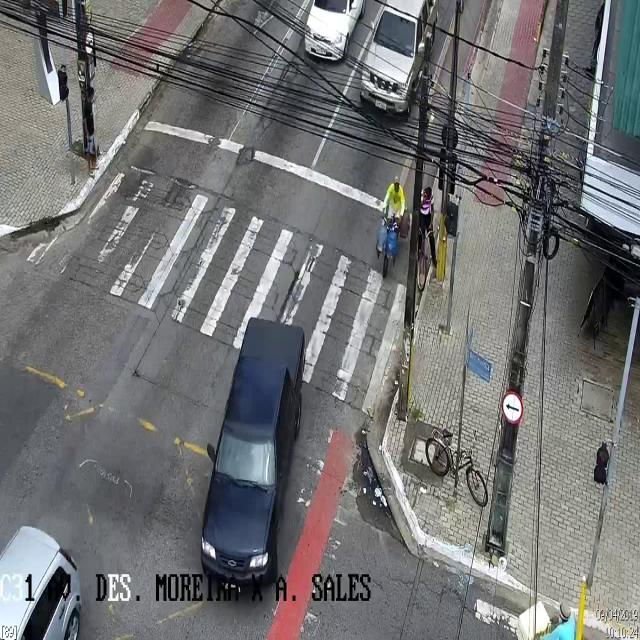Car: (201, 317, 304, 586), (0, 502, 106, 640), (360, 1, 438, 119), (302, 1, 366, 61)
